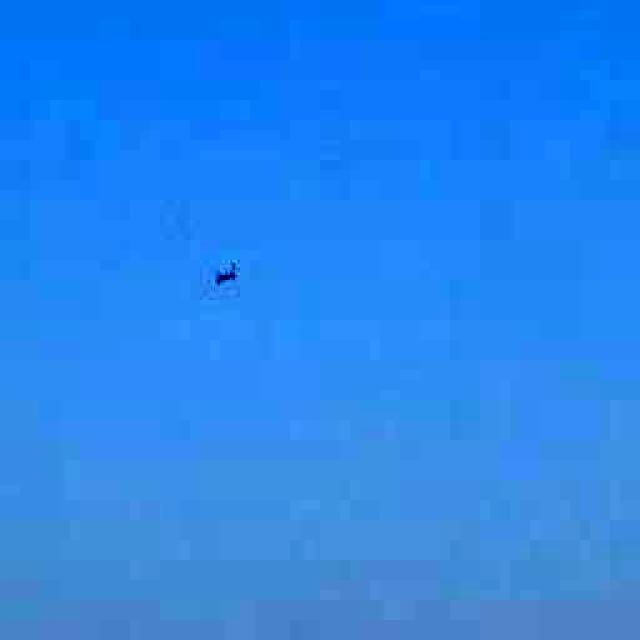bird: (196, 245, 254, 302)
